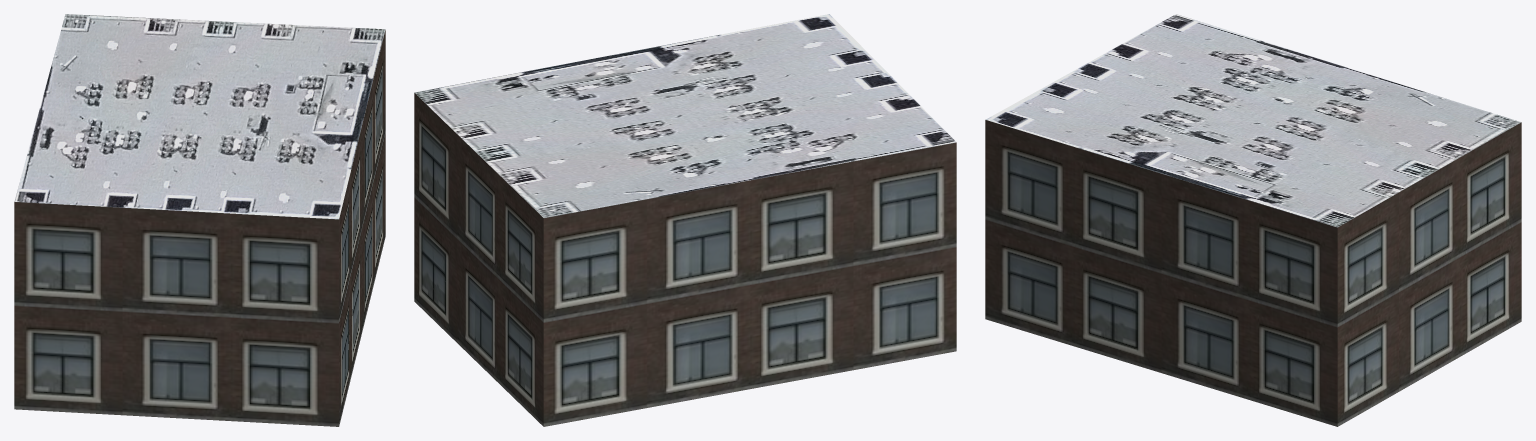
Rendered from ResTex__1372.fbx.
3 views of the same model, side by side, from view 1: azimuth 30°, elevation 25°; view 2: azimuth 150°, elevation 25°; view 3: azimuth 270°, elevation 25° (orthographic). The views are drawn at different scales.
Parts seen in each view (by area): view 1: CityEngineMaterial_16_m, CityEngineMaterial_15_m; view 2: CityEngineMaterial_16_m, CityEngineMaterial_15_m; view 3: CityEngineMaterial_16_m, CityEngineMaterial_15_m.
Part boxes in pixels (bbox=[...]): CityEngineMaterial_16_m: bbox=[14, 30, 385, 426]; CityEngineMaterial_15_m: bbox=[14, 14, 385, 219]; CityEngineMaterial_16_m: bbox=[414, 93, 956, 426]; CityEngineMaterial_15_m: bbox=[414, 14, 956, 217]; CityEngineMaterial_16_m: bbox=[985, 120, 1521, 426]; CityEngineMaterial_15_m: bbox=[986, 14, 1520, 227].
Size of the model in its own units: 13.77 by 6 by 14.61.
Materials: 2 (2 with a texture image).
